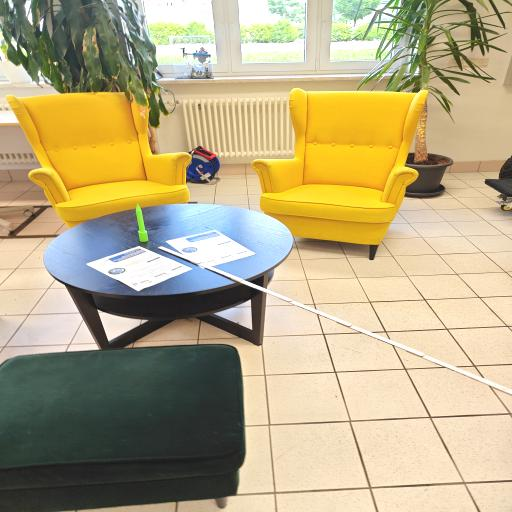Probe-Detection: (136, 203, 148, 243)
